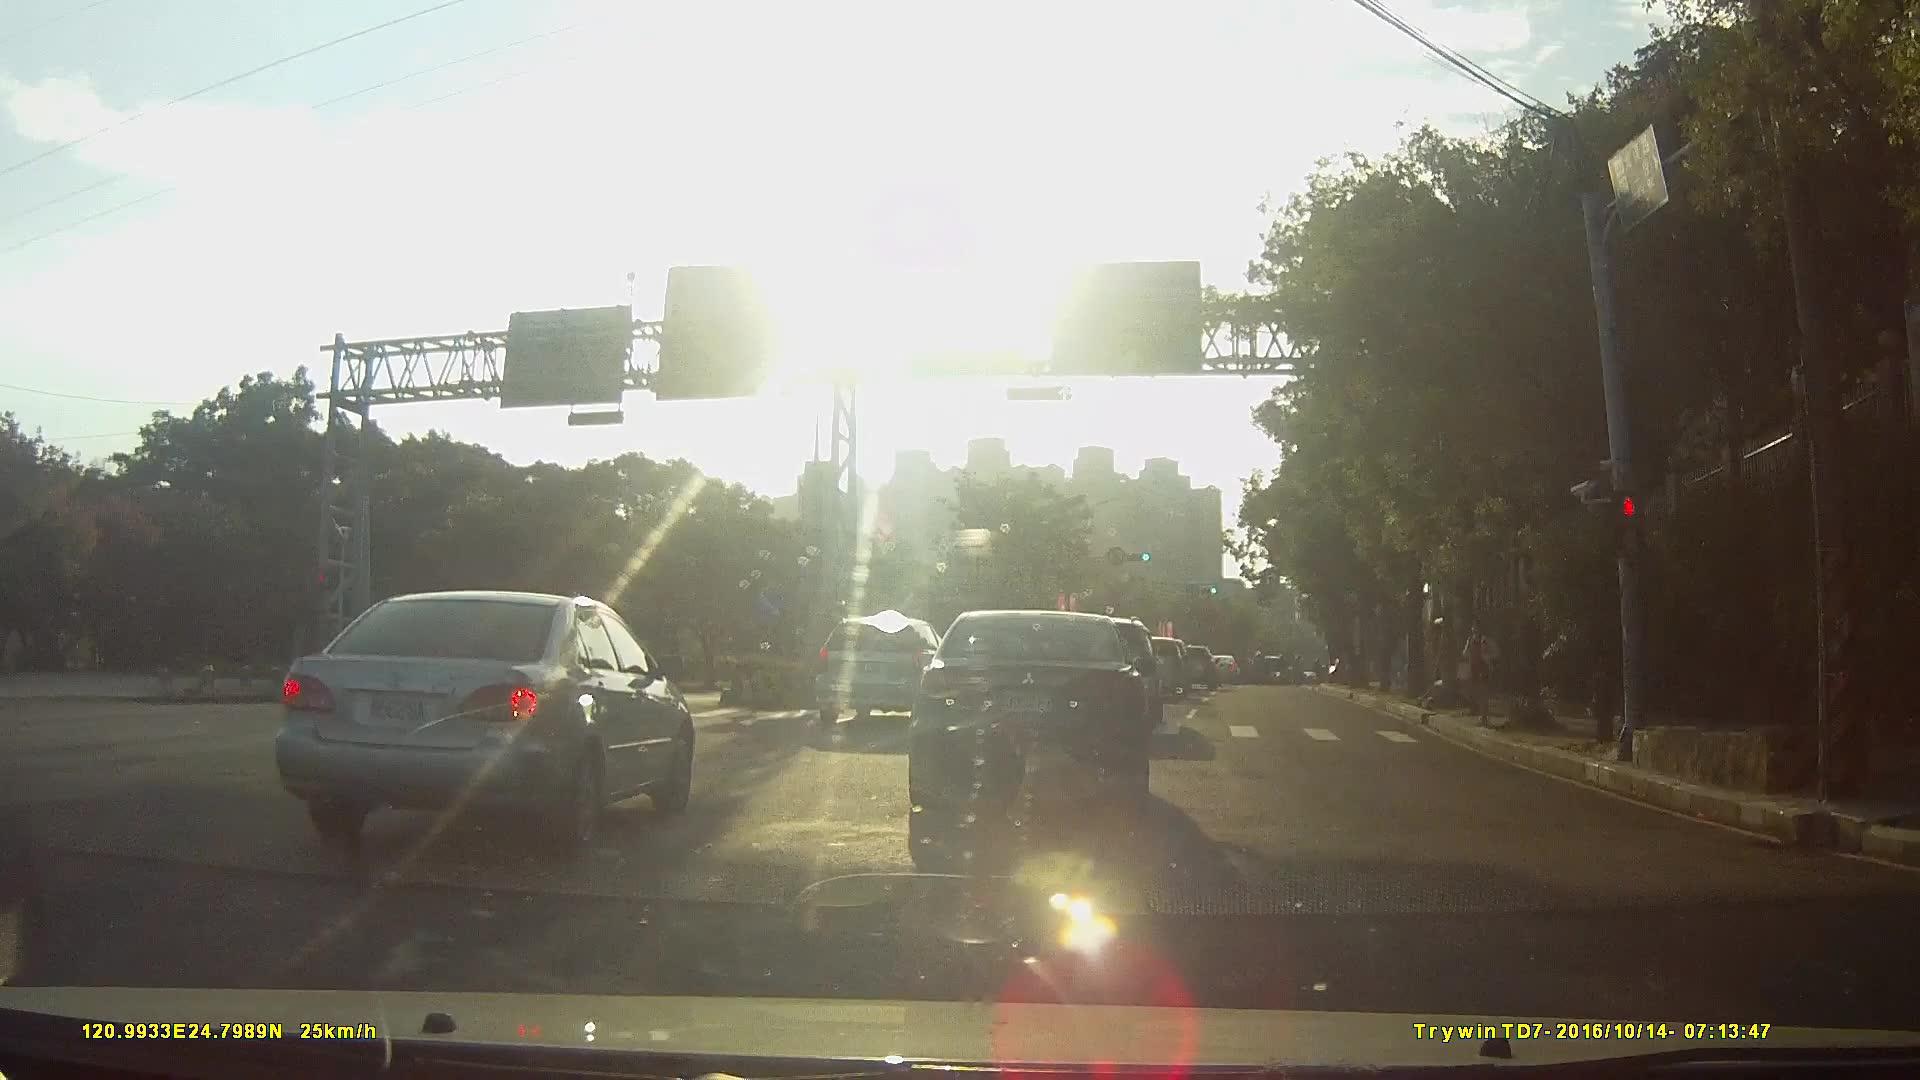pedestrian: (1454, 611, 1503, 723)
vehicle: (266, 583, 698, 851), (903, 609, 1154, 816), (812, 610, 955, 722), (1169, 643, 1215, 688), (1203, 656, 1239, 684)
